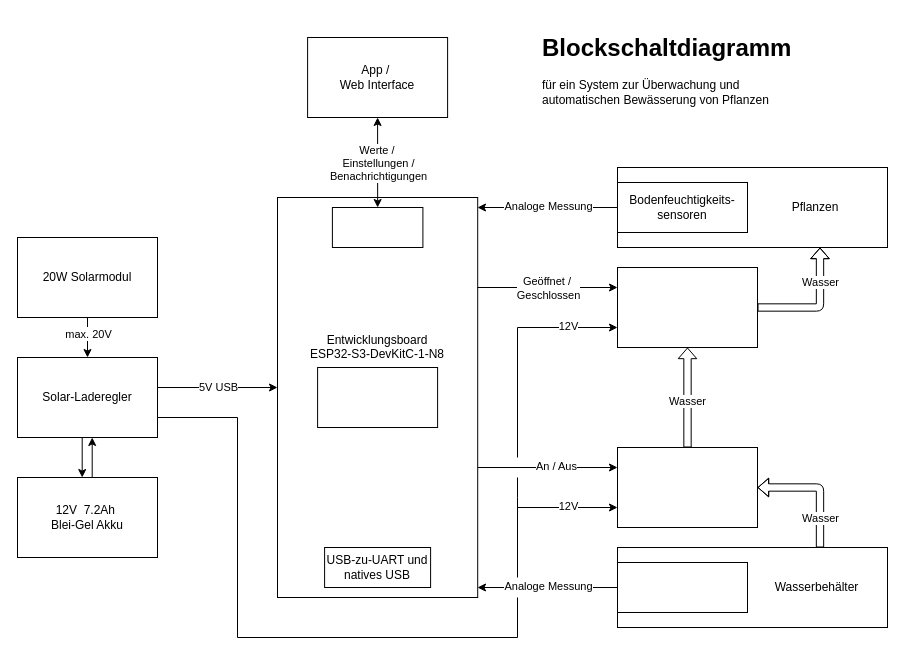
Some shapes in this 905 by 656 pixel diagram are drawn without their labels. Each missing label, with the centre of its shape:
Microcontroller ESP32-S3: [377,397]
Solenoid Ventile 12V: [687,307]
Wasserpumpe 12V max. 6A: [687,487]
Wasserstandssensor: [682,587]
Wi-Fi: [377,227]
